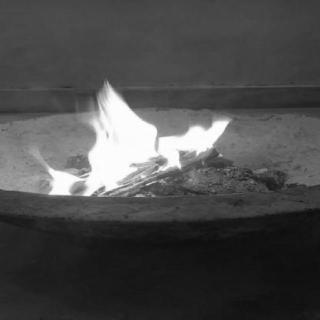Fire: (34, 74, 244, 208)
